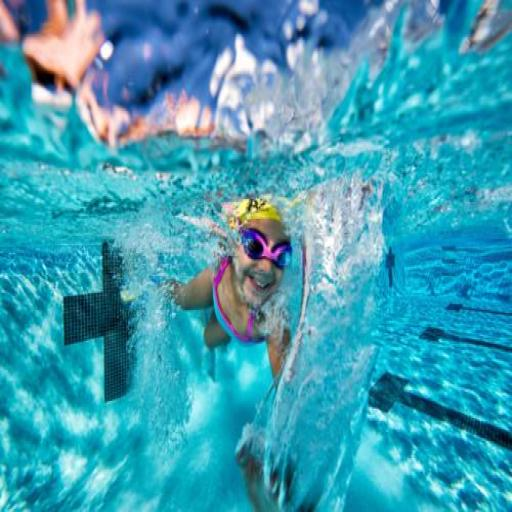swimming: (168, 174, 356, 416)
